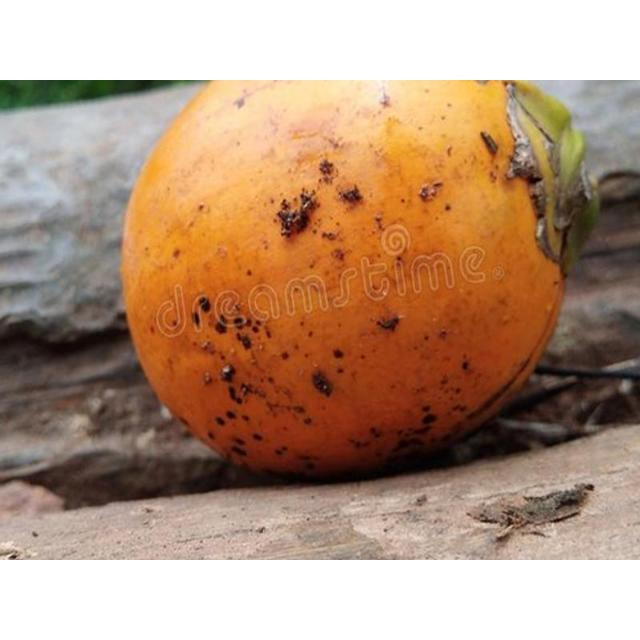good: (118, 80, 601, 484)
